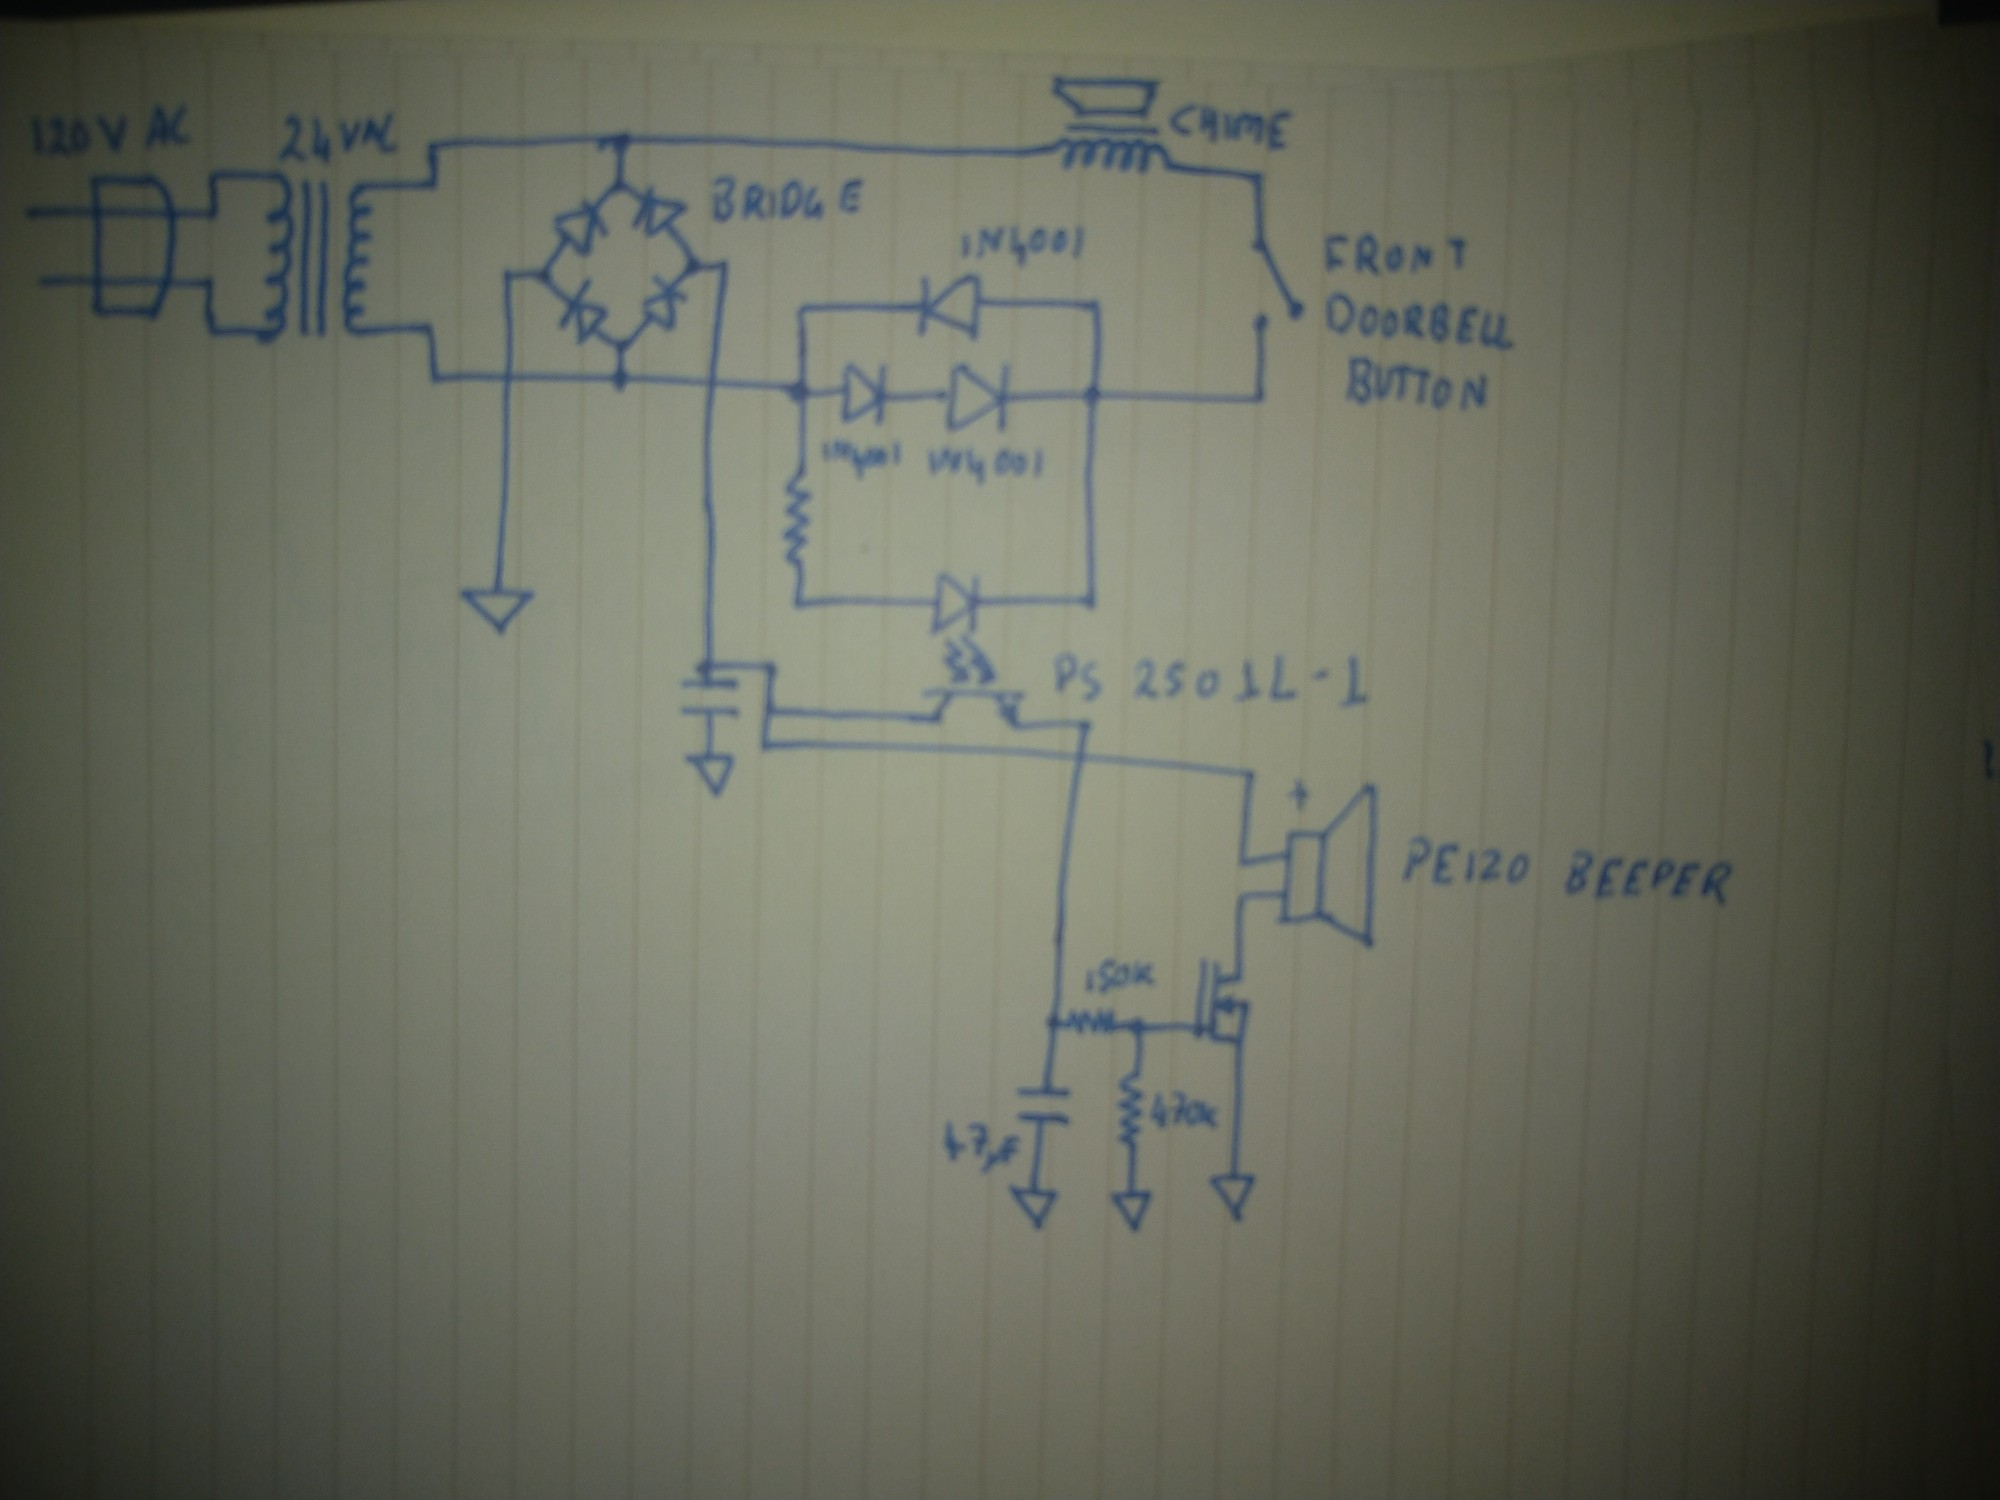capacitor.unpolarized: (676, 674, 743, 722), (1011, 1082, 1077, 1128)
crossover: (699, 369, 728, 394), (1068, 748, 1094, 774), (498, 366, 520, 388)
diode: (909, 269, 986, 343), (943, 359, 1016, 436), (550, 194, 616, 257), (556, 276, 613, 348), (628, 184, 691, 243), (838, 359, 890, 429), (636, 274, 690, 336)
gnd: (455, 580, 540, 641), (679, 750, 745, 804), (1205, 1171, 1258, 1229), (1006, 1183, 1060, 1234), (1109, 1186, 1157, 1235)
junction: (781, 377, 814, 407), (605, 367, 636, 397), (1079, 381, 1109, 411), (609, 329, 636, 359), (1069, 715, 1099, 741), (609, 128, 635, 156), (608, 173, 635, 199), (680, 254, 706, 280), (693, 652, 721, 676), (534, 260, 557, 288), (1231, 849, 1257, 874), (753, 733, 780, 756), (1079, 589, 1104, 613), (1236, 764, 1263, 786), (1041, 1012, 1063, 1038), (761, 698, 784, 722), (757, 655, 781, 679), (1124, 1013, 1148, 1037), (1083, 296, 1107, 318), (791, 296, 811, 321), (424, 136, 446, 158), (715, 255, 735, 277), (1230, 889, 1254, 908), (420, 318, 441, 339), (791, 591, 809, 613), (202, 320, 220, 340), (499, 265, 518, 284), (428, 369, 446, 388), (1249, 389, 1268, 407), (205, 203, 220, 224), (206, 165, 224, 183), (1247, 167, 1265, 184), (200, 273, 216, 291), (425, 176, 441, 192)
optocoupler: (915, 558, 1031, 734)
resistor: (776, 466, 819, 575), (1112, 1068, 1150, 1149), (1061, 1005, 1120, 1041)
socket: (85, 173, 181, 325)
speaker: (1272, 775, 1380, 952), (1046, 71, 1180, 180)
switch: (1238, 233, 1310, 334)
terminal: (13, 202, 46, 228), (28, 268, 57, 295)
text: (1395, 834, 1739, 911), (1046, 641, 1376, 711), (1321, 291, 1521, 353), (25, 99, 195, 162), (1342, 355, 1493, 414), (707, 173, 877, 225), (274, 106, 406, 169), (1321, 232, 1472, 280), (954, 221, 1094, 273), (1165, 101, 1296, 151), (924, 444, 1047, 492), (939, 1117, 1022, 1179), (817, 435, 909, 481), (1080, 953, 1161, 999), (1148, 1086, 1222, 1134)
transformer: (254, 167, 387, 350)
transistor: (1187, 953, 1257, 1049)
